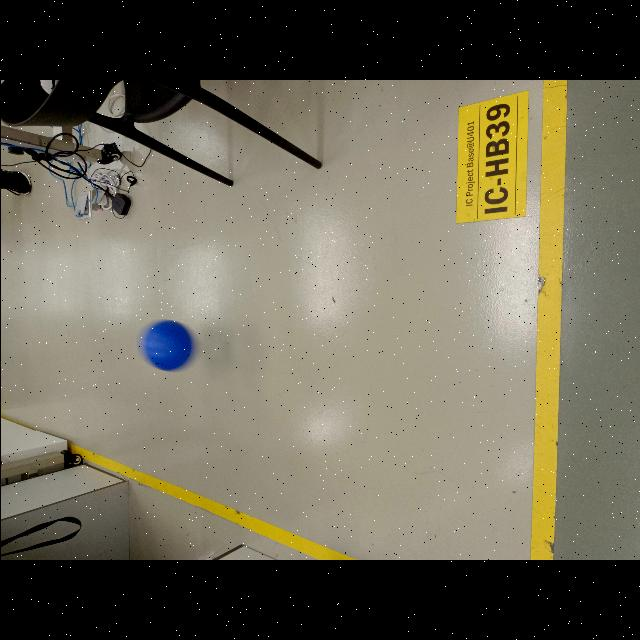B: (136, 320, 194, 372)
